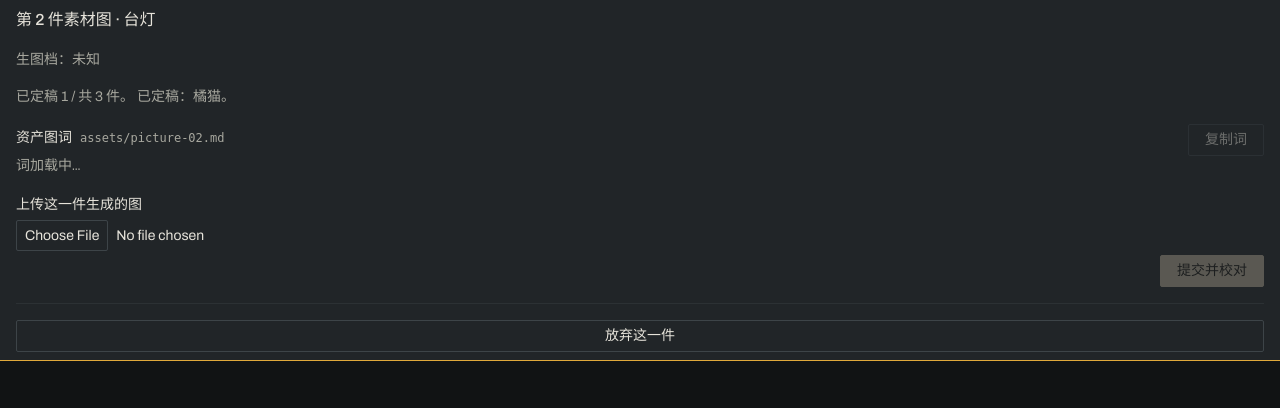
AssetImageCard 放弃这一件 › 先把代价摊在确认里，确认后才发决议（只带 decision，不带 asset_id）
Expected: the text "无图指称" is not shown
What coordinates should you click on to do the following:
click the button "放弃这一件"
I would click on:
 (640, 336)
Its box is [16,320,1264,352].
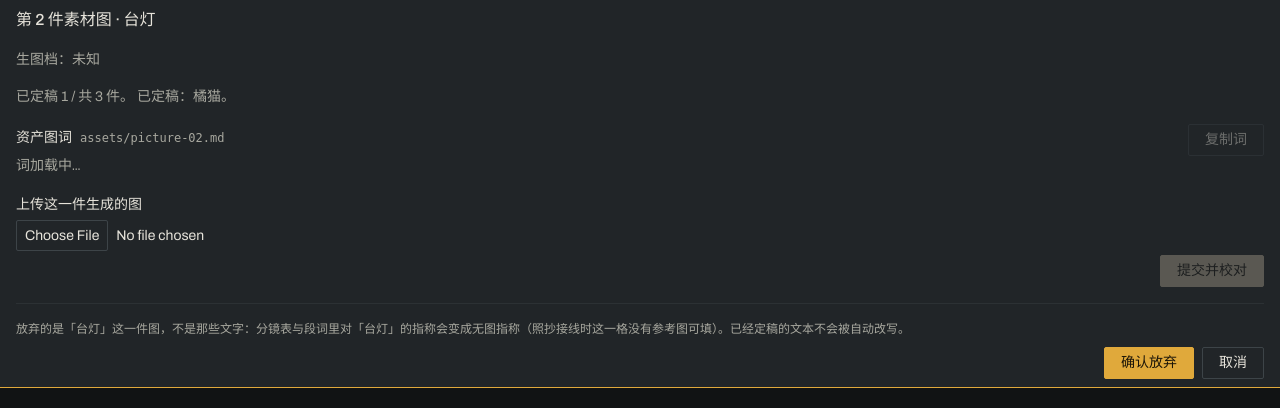
Result: the text "分镜表与段词里对「台灯」的指称会变成无图指称" is shown at [16,322,910,336]
Result: the text "已经定稿的文本不会被自动改写" is shown at [16,322,910,336]
What coordinates should you click on to do the following:
click the button "确认放弃"
I would click on:
 (1149, 363)
Its box is [1104,347,1194,379].
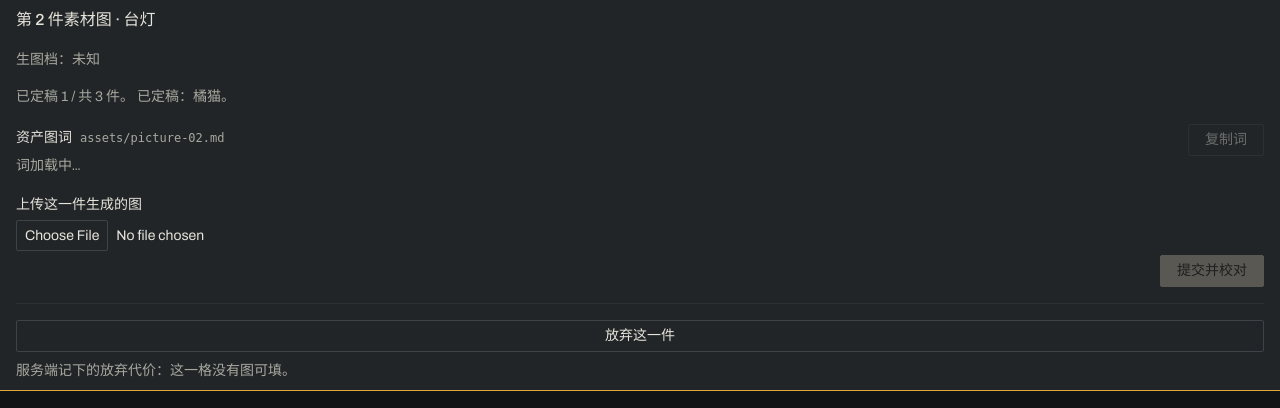
Result: the text "服务端记下的放弃代价" is shown at [16,363,296,378]
